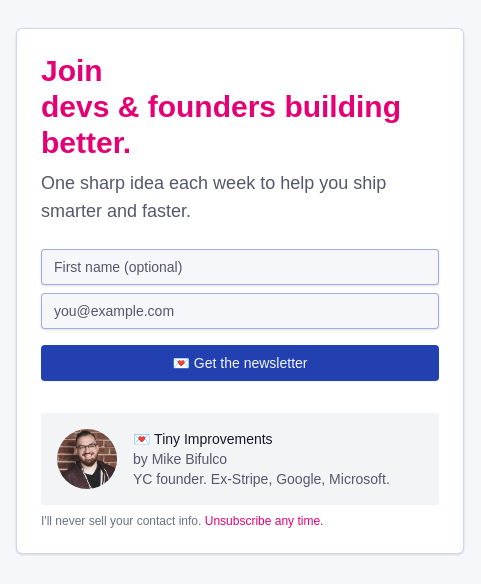
Test: NewsletterSignupPage › should require only the email address
Click the button "💌 Get the newsletter": (240, 363) [41,345,439,381]
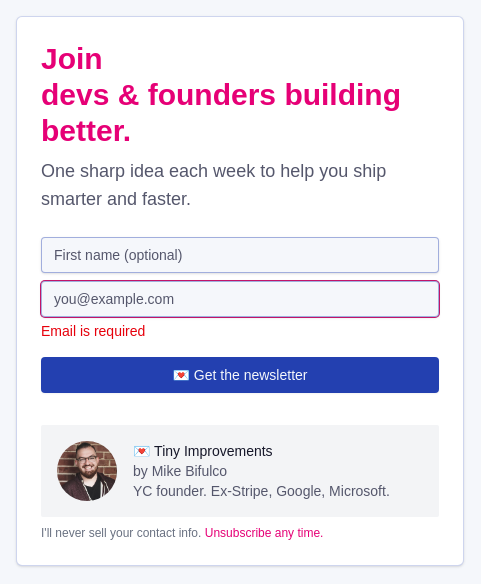
Expected: the text "Email is required" is shown, [41,323,145,339]
